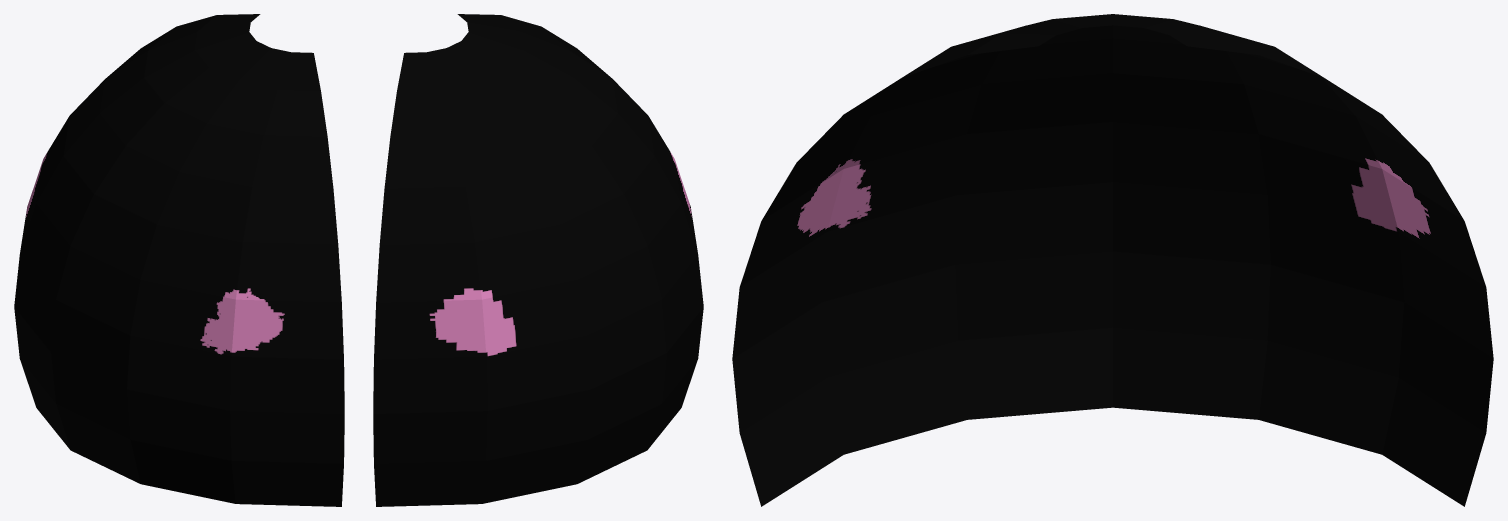
Rendered from bluey_face 1.fbx.
The picture shows the model from 3 angles, left to right: view 1: azimuth 30°, elevation 25°; view 2: azimuth 150°, elevation 25°; view 3: azimuth 270°, elevation 25°; orthographic projection. The views are drawn at different scales.
Visible parts, largest first — view 1: Sphere; view 2: Sphere; view 3: Sphere.
Part boxes in pixels (bbox=[...]): Sphere: bbox=[14, 14, 344, 506]; Sphere: bbox=[373, 14, 703, 506]; Sphere: bbox=[732, 14, 1493, 506].
Bounding box in the file's own units: 92.53 × 136 × 185.
